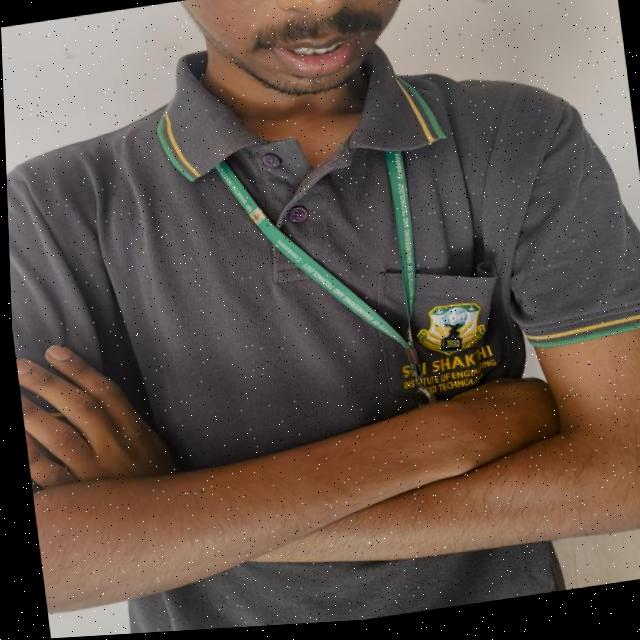id_card: (192, 105, 506, 436)
